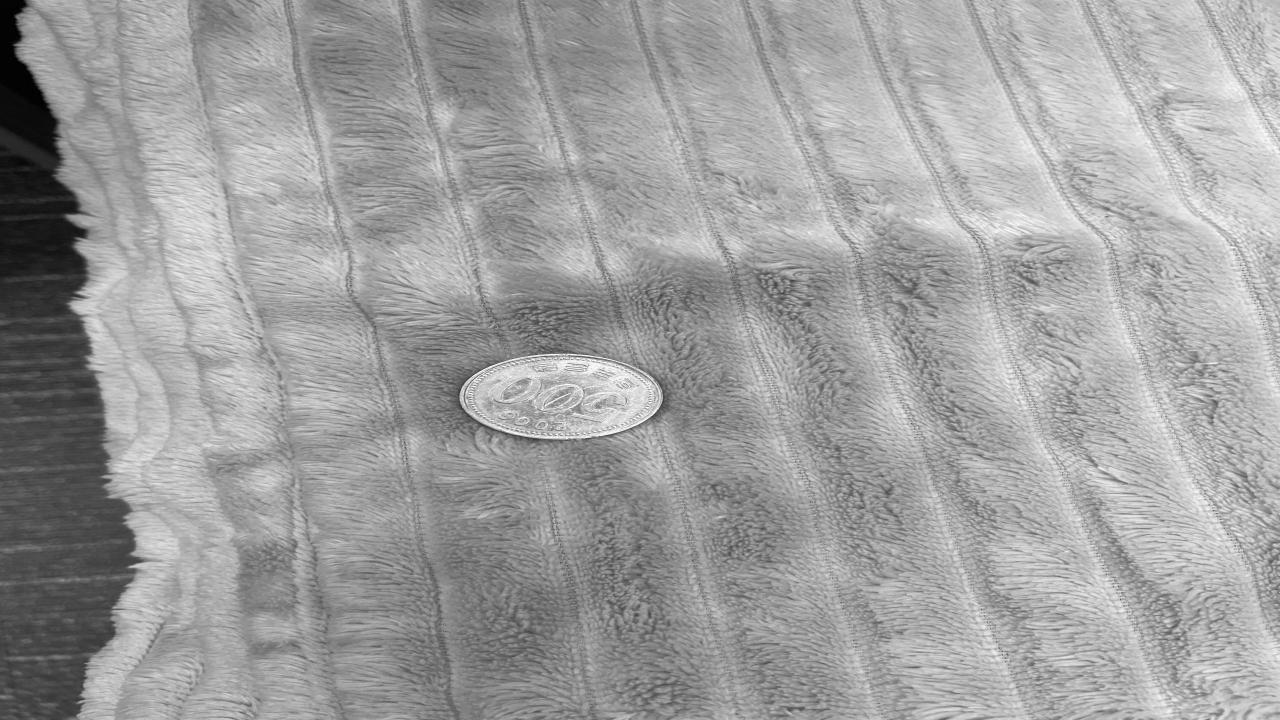coin: (459, 354, 663, 438)
